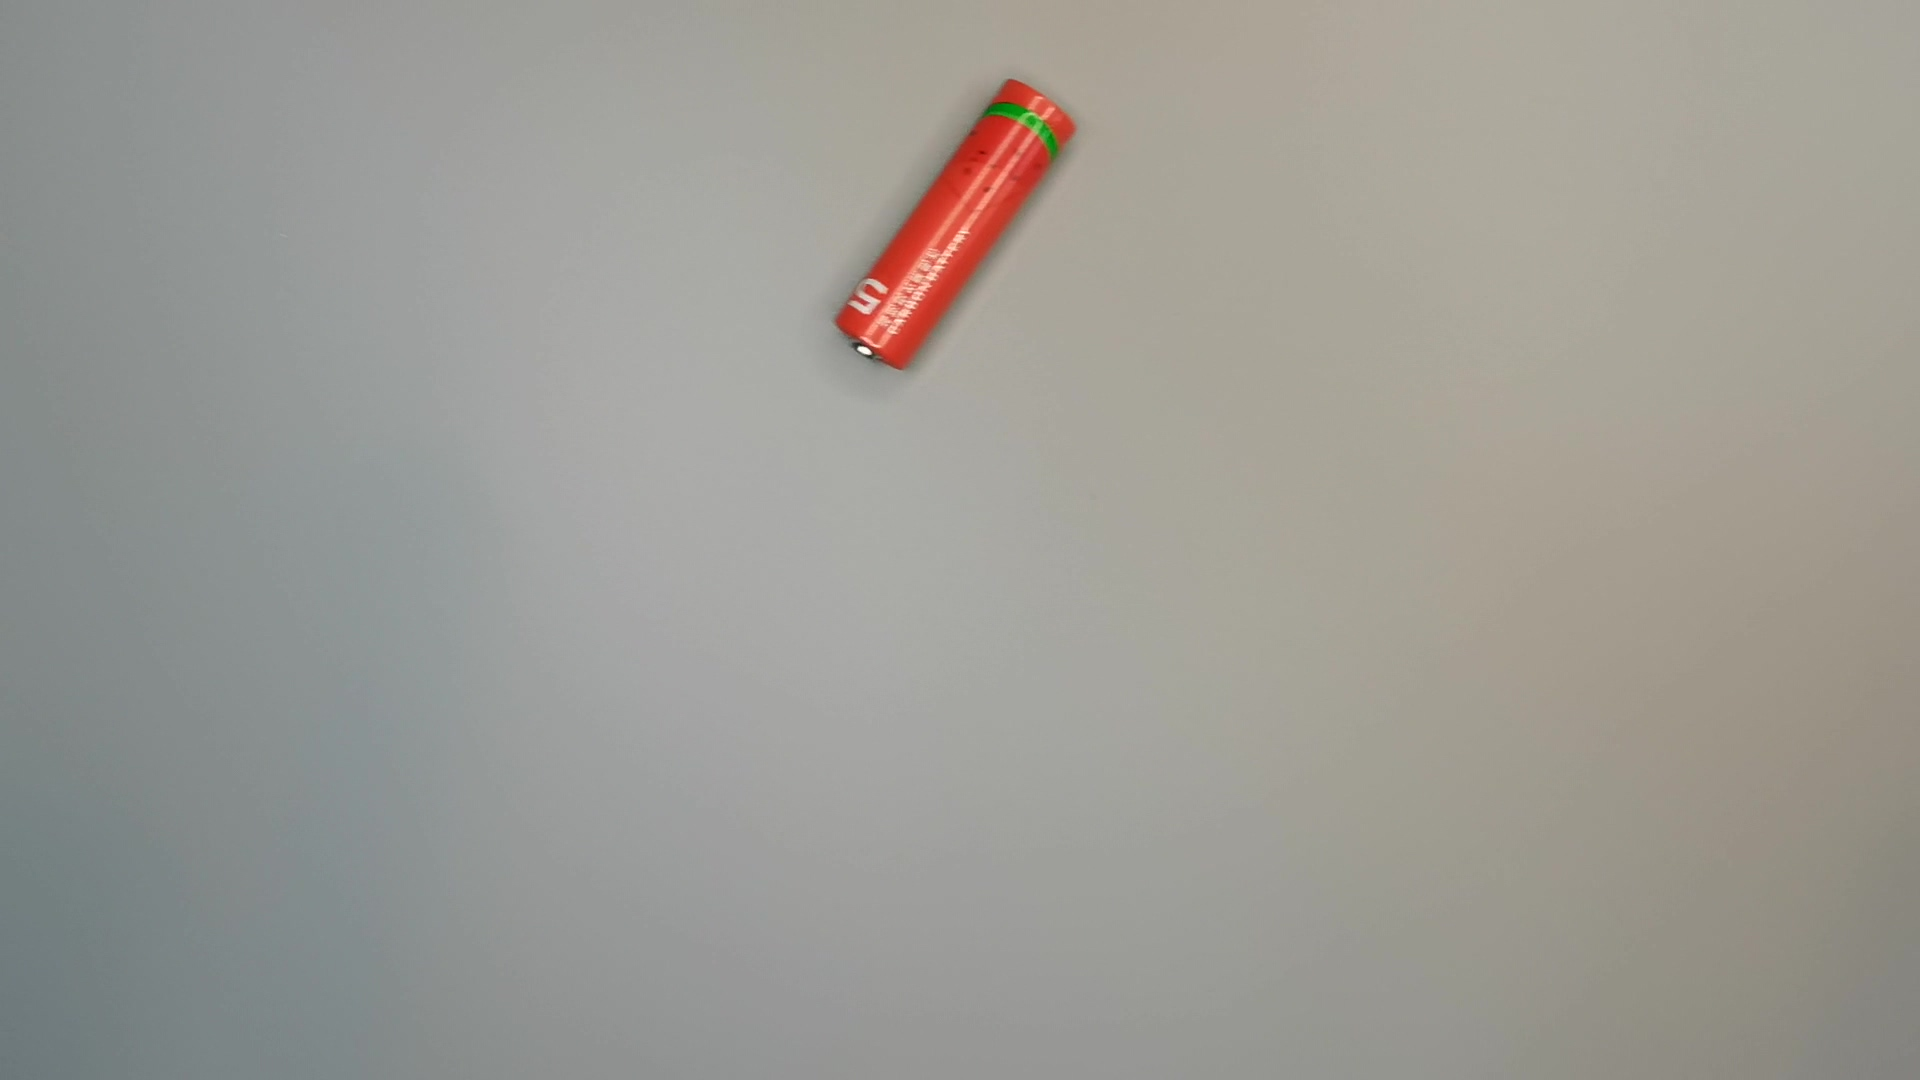battery: (829, 74, 1083, 378)
